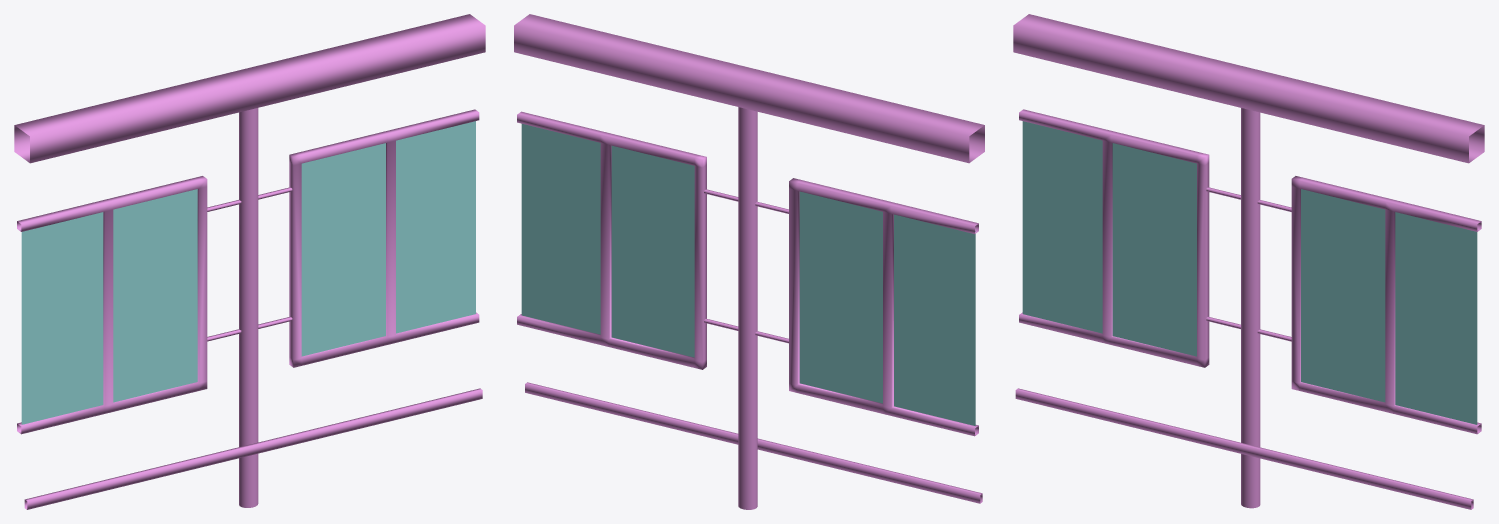
File: sub_Handrail.fbx
The picture shows the model from 3 angles, left to right: view 1: azimuth 30°, elevation 25°; view 2: azimuth 150°, elevation 25°; view 3: azimuth 330°, elevation 25°; orthographic projection.
Parts seen in each view (by area): view 1: sub_Handrail1; view 2: sub_Handrail1; view 3: sub_Handrail1.
Part boxes in pixels (x1=…): sub_Handrail1: x1=14, y1=14, x2=485, y2=509; sub_Handrail1: x1=514, y1=14, x2=984, y2=509; sub_Handrail1: x1=1013, y1=14, x2=1484, y2=509.
Bounding box in the file's own units: 2.65 × 2.37 × 0.1564.
